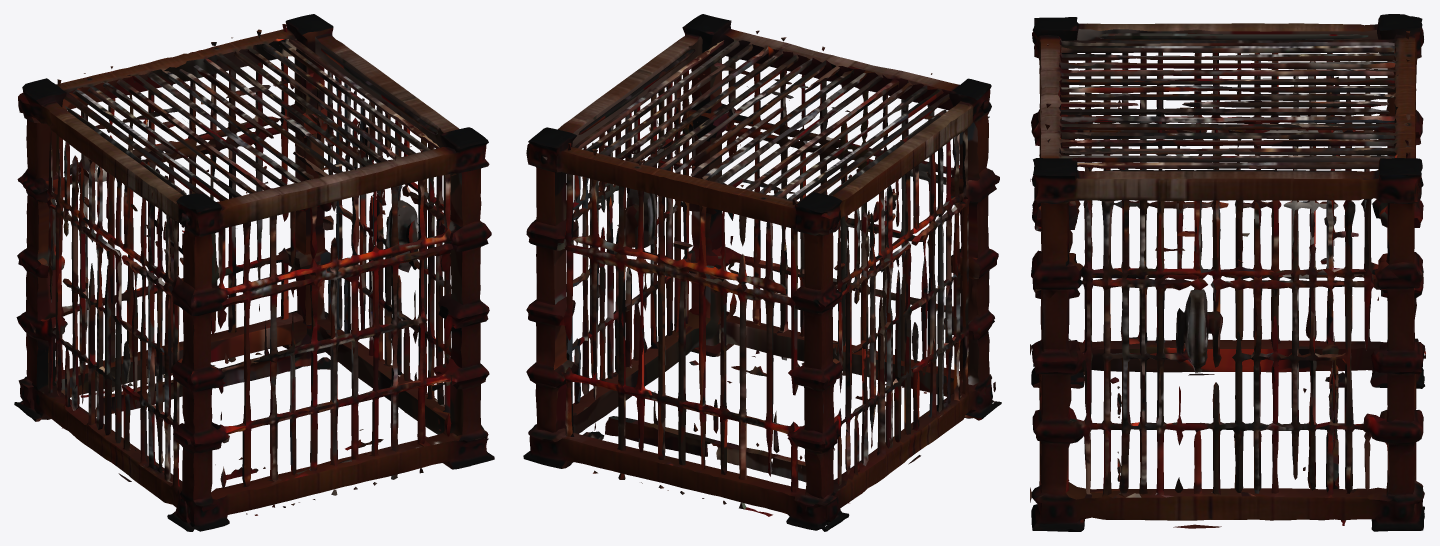
File: jaula_metalica.glb
3 views of the same model, side by side, from view 1: azimuth 30°, elevation 25°; view 2: azimuth 150°, elevation 25°; view 3: azimuth 270°, elevation 25° (orthographic). The views are drawn at different scales.
Parts seen in each view (by area): view 1: tmpl7gntk5d.ply; view 2: tmpl7gntk5d.ply; view 3: tmpl7gntk5d.ply.
Part boxes in pixels (x1,y1,x2,y2): tmpl7gntk5d.ply: (14, 14, 494, 531); tmpl7gntk5d.ply: (523, 14, 1001, 531); tmpl7gntk5d.ply: (1030, 14, 1425, 531).
Size of the model in its own units: 0.9946 by 1 by 1.
Materials: 1 (1 with a texture image).
